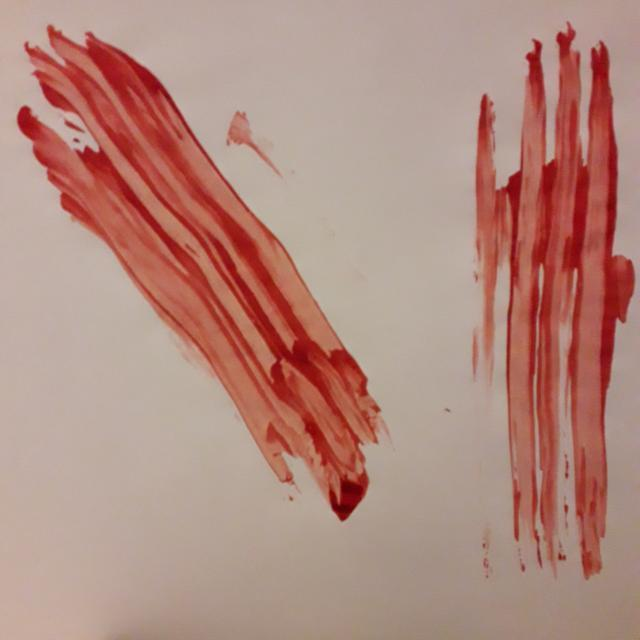wound: (17, 21, 401, 534), (461, 26, 640, 593)
